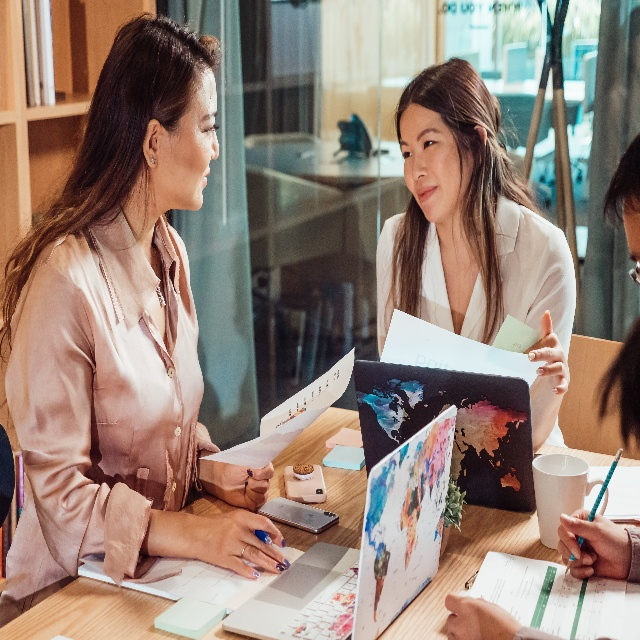Sin_guantes: (203, 509, 292, 581), (555, 505, 631, 583), (522, 310, 571, 398), (444, 589, 519, 640), (218, 453, 275, 512)
